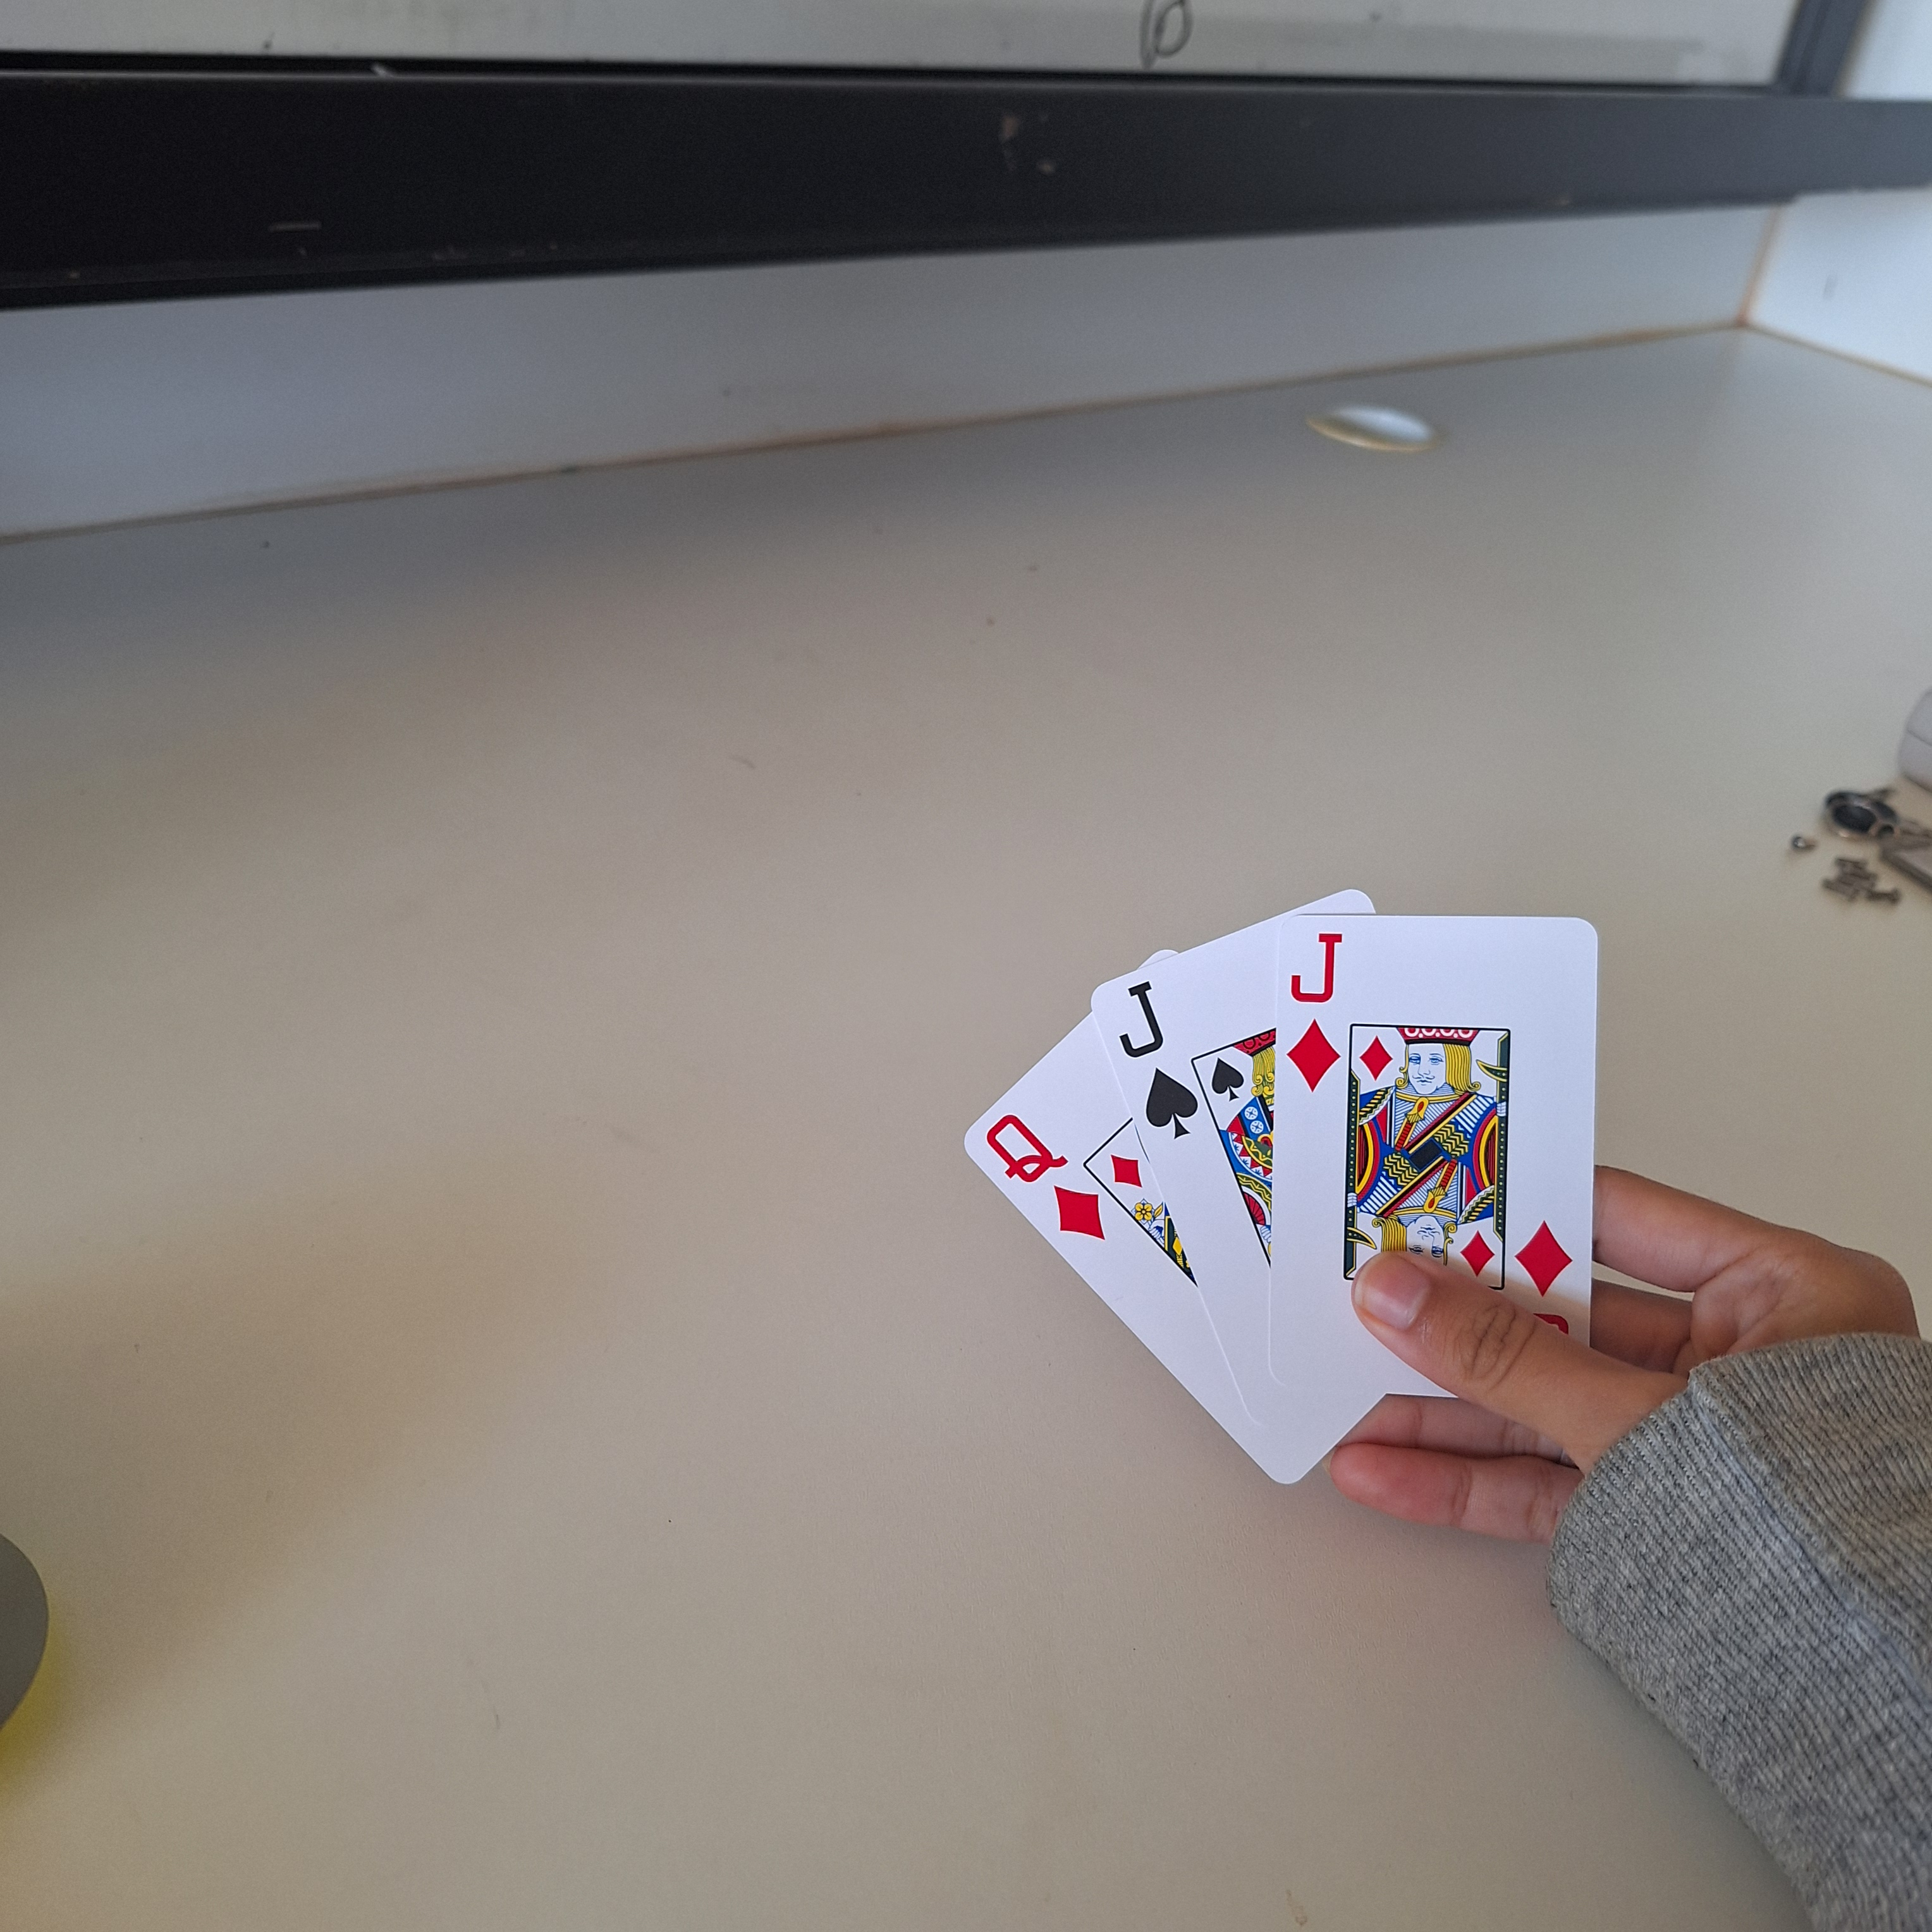JE: (1111, 977, 1201, 1141)
JO: (1283, 922, 1348, 1100)
QO: (982, 1108, 1108, 1247)
